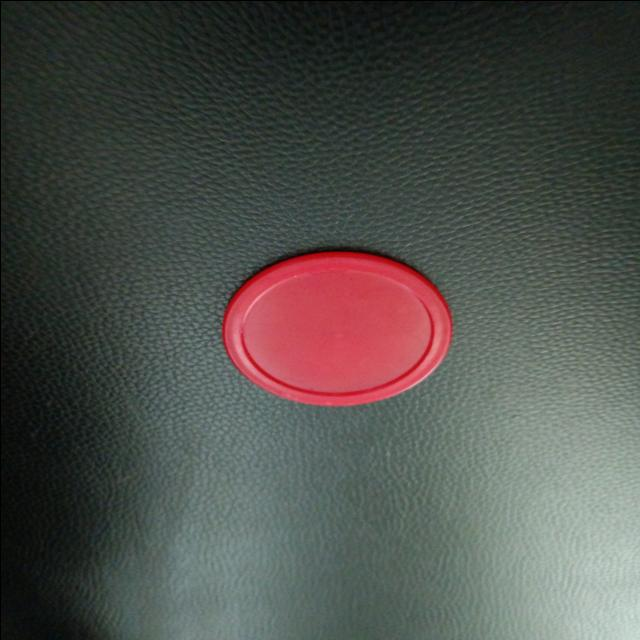chip: (218, 249, 454, 408)
